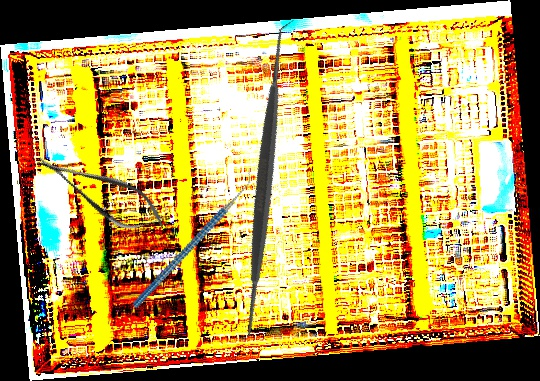Chopper: (102, 167, 284, 309)
Micro Scissor: (29, 138, 173, 246)
Spatula Surgical: (103, 19, 427, 346)
